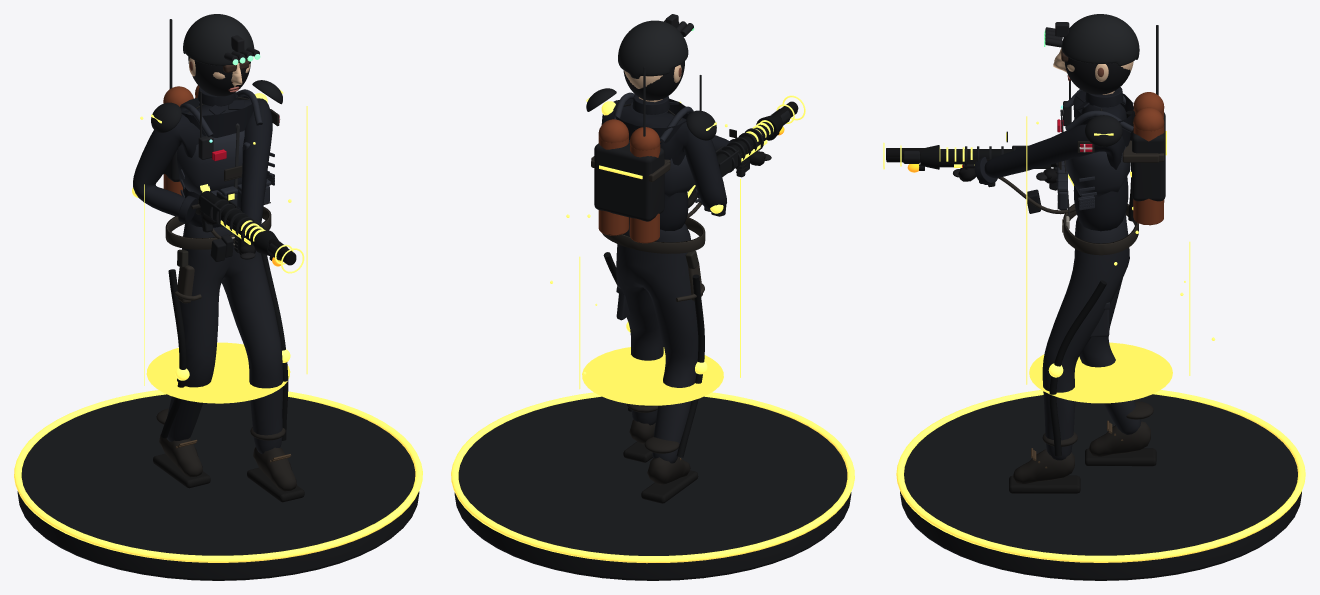
The model's file is braender_nat.glb.
The picture shows the model from 3 angles, left to right: view 1: azimuth 30°, elevation 25°; view 2: azimuth 150°, elevation 25°; view 3: azimuth 270°, elevation 25°; orthographic projection.
Visible parts, largest first — view 1: fod_net, menneske_net, op1_net, op4.001_net, hoved_net, op4_net, op3_net, vaaben_net, op4.002_net, op1.001_net, op3.001_net; view 2: fod_net, menneske_net, op3_net, op4.001_net, hoved_net, op1_net, op4_net, vaaben_net, op1.001_net, op4.002_net; view 3: fod_net, menneske_net, op4.001_net, hoved_net, op1_net, op3_net, op4_net, op1.001_net, vaaben_net.
Part boxes in pixels (left/top/right/bottom): fod_net: left=14, top=390, right=422, bottom=580; menneske_net: left=133, top=85, right=304, bottom=502; op1_net: left=165, top=89, right=274, bottom=303; op4.001_net: left=140, top=106, right=307, bottom=403; hoved_net: left=183, top=14, right=260, bottom=96; op4_net: left=132, top=93, right=290, bottom=440; op3_net: left=151, top=19, right=283, bottom=181; vaaben_net: left=195, top=200, right=282, bottom=266; op4.002_net: left=200, top=184, right=304, bottom=273; op1.001_net: left=198, top=191, right=261, bottom=242; op3.001_net: left=200, top=191, right=296, bottom=265; fod_net: left=451, top=392, right=854, bottom=580; menneske_net: left=598, top=94, right=771, bottom=503; op3_net: left=586, top=66, right=716, bottom=221; op4.001_net: left=550, top=101, right=740, bottom=405; hoved_net: left=618, top=14, right=694, bottom=100; op1_net: left=591, top=75, right=705, bottom=301; op4_net: left=601, top=101, right=723, bottom=457; vaaben_net: left=688, top=115, right=784, bottom=207; op1.001_net: left=686, top=122, right=773, bottom=218; op4.002_net: left=687, top=95, right=805, bottom=216; fod_net: left=896, top=390, right=1305, bottom=580; menneske_net: left=953, top=87, right=1164, bottom=493; op4.001_net: left=1026, top=116, right=1215, bottom=403; hoved_net: left=1044, top=14, right=1139, bottom=94; op1_net: left=1055, top=81, right=1164, bottom=255; op3_net: left=1085, top=25, right=1166, bottom=201; op4_net: left=1048, top=110, right=1135, bottom=456; op1.001_net: left=940, top=146, right=1075, bottom=214; vaaben_net: left=907, top=145, right=1057, bottom=190.
Bounding box in the file's own units: 1.94 × 2.51 × 2.
